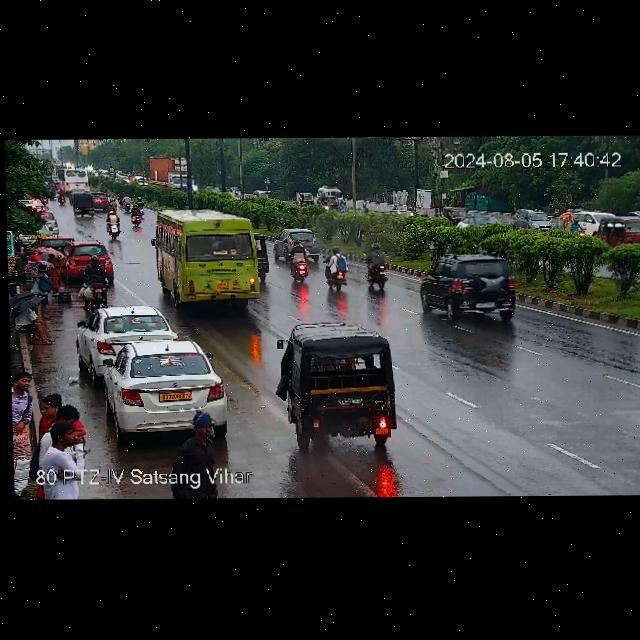bus: (159, 208, 272, 309)
car: (278, 325, 395, 444), (84, 341, 225, 435), (421, 259, 525, 322), (78, 307, 176, 359), (64, 240, 115, 273), (275, 225, 321, 259), (566, 210, 617, 239), (600, 214, 640, 249), (515, 205, 557, 233), (71, 193, 93, 218), (443, 204, 466, 223), (91, 190, 109, 212), (321, 194, 339, 210), (301, 191, 315, 207)
motorcycle: (81, 256, 112, 307), (361, 250, 395, 291), (322, 248, 354, 289), (285, 249, 315, 283), (105, 208, 121, 240), (130, 204, 143, 228), (58, 187, 70, 207)
person: (173, 408, 226, 499), (38, 429, 87, 500), (46, 398, 90, 457), (11, 290, 58, 345), (11, 368, 45, 435), (44, 252, 66, 296), (136, 196, 146, 216), (123, 194, 131, 214), (119, 189, 125, 205)
truck: (149, 157, 200, 191), (56, 166, 90, 195)
